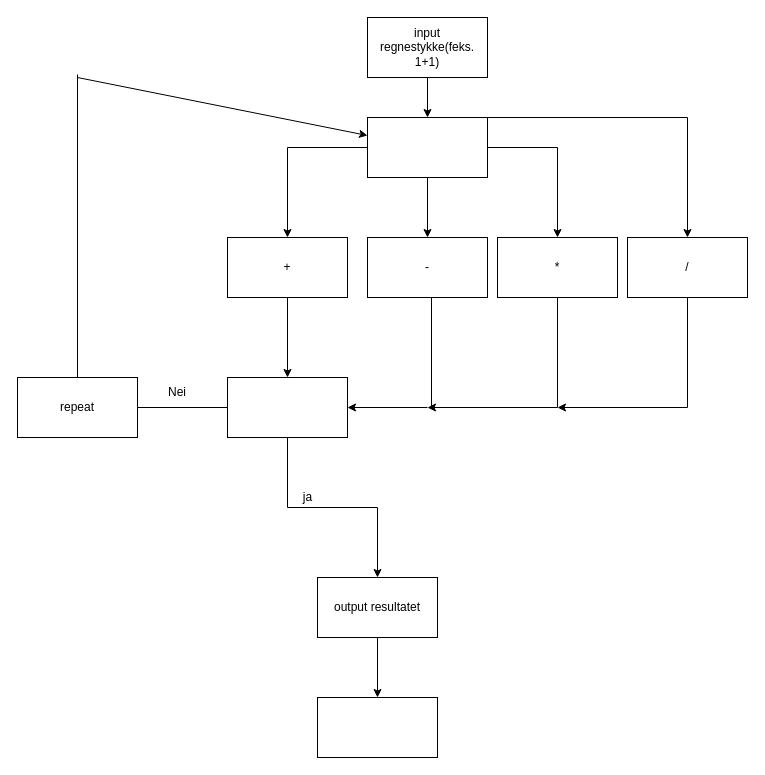
The diagram is 765 pixels wide and 775 high, and some of its shapes have lost their labels. The shapes that lost their labels are listed below. From the top down, each one's centre as x and y in pixels, then its label:
pixel 427 147: programmet ber om tegn(feks. +)
pixel 287 407: sjekker om tegnet er valid
pixel 377 727: sender så resultatet til database
